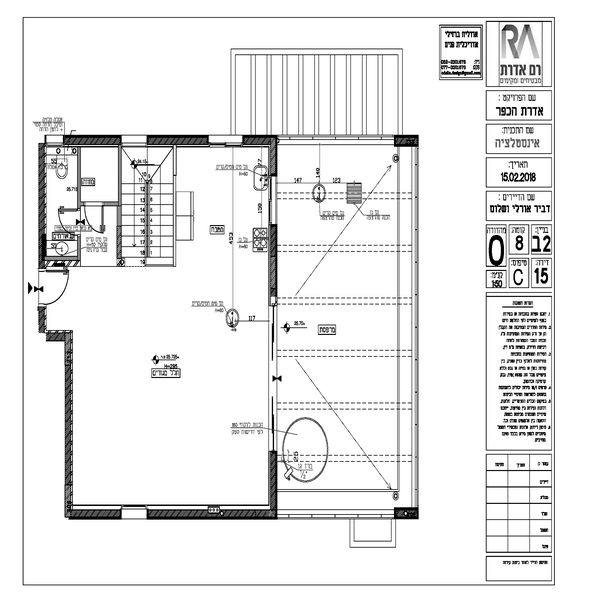door: (37, 266, 76, 307), (84, 203, 107, 241), (58, 205, 85, 237)
room: (49, 329, 283, 521), (69, 127, 281, 318), (27, 135, 177, 268)
wall: (61, 326, 77, 519), (151, 504, 278, 522), (53, 505, 127, 524), (60, 132, 123, 152), (143, 133, 210, 150), (265, 224, 278, 301), (266, 454, 281, 514), (242, 132, 279, 148), (265, 146, 283, 177), (391, 130, 420, 149), (389, 505, 419, 523)
window: (265, 299, 279, 453), (265, 174, 281, 225), (211, 133, 243, 153), (122, 135, 147, 147)
